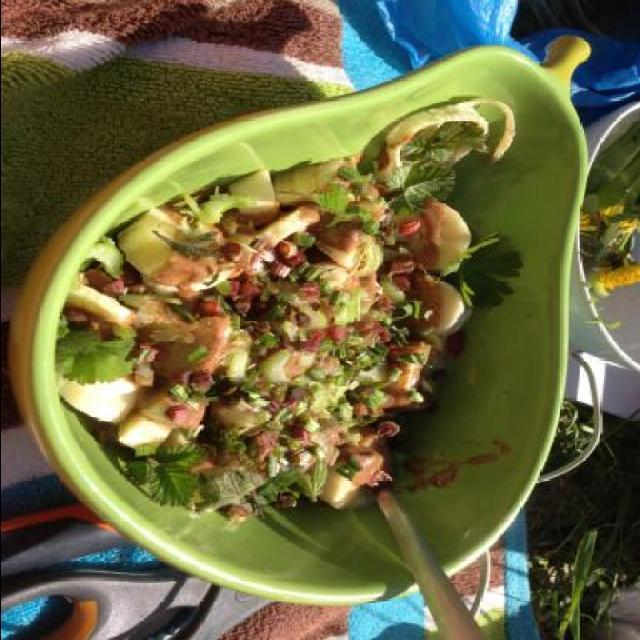Salad: (75, 91, 539, 522)
